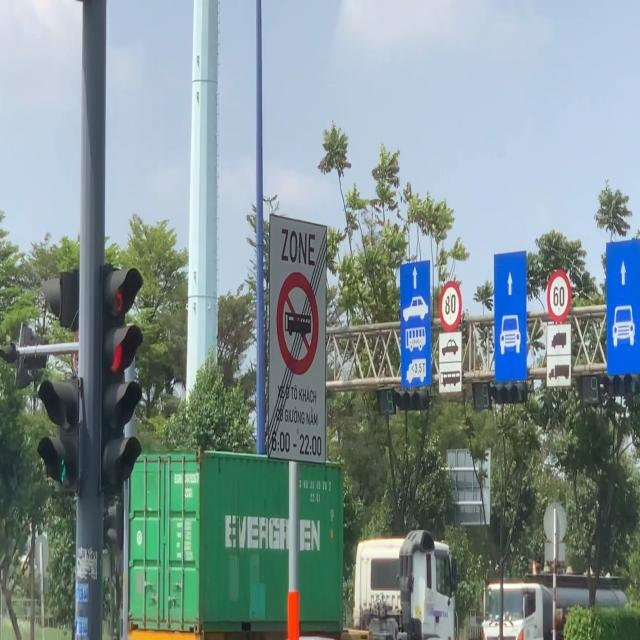Cam con lai: (277, 272, 319, 376)
Toc do toi da: (547, 269, 569, 322), (440, 280, 461, 332)
